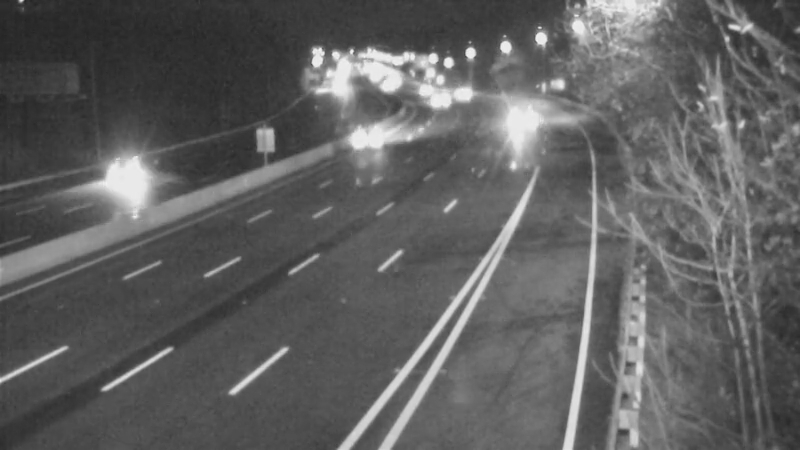vehicle: (91, 137, 171, 217), (388, 61, 438, 111), (436, 68, 486, 118), (412, 74, 462, 124), (495, 100, 545, 150), (342, 111, 392, 161)
